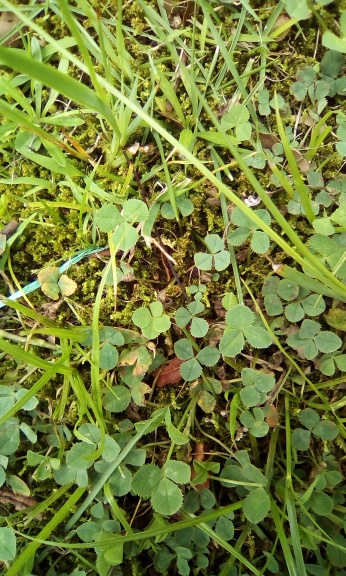4leaf: (285, 319, 343, 362), (227, 207, 272, 255), (130, 300, 173, 341)
